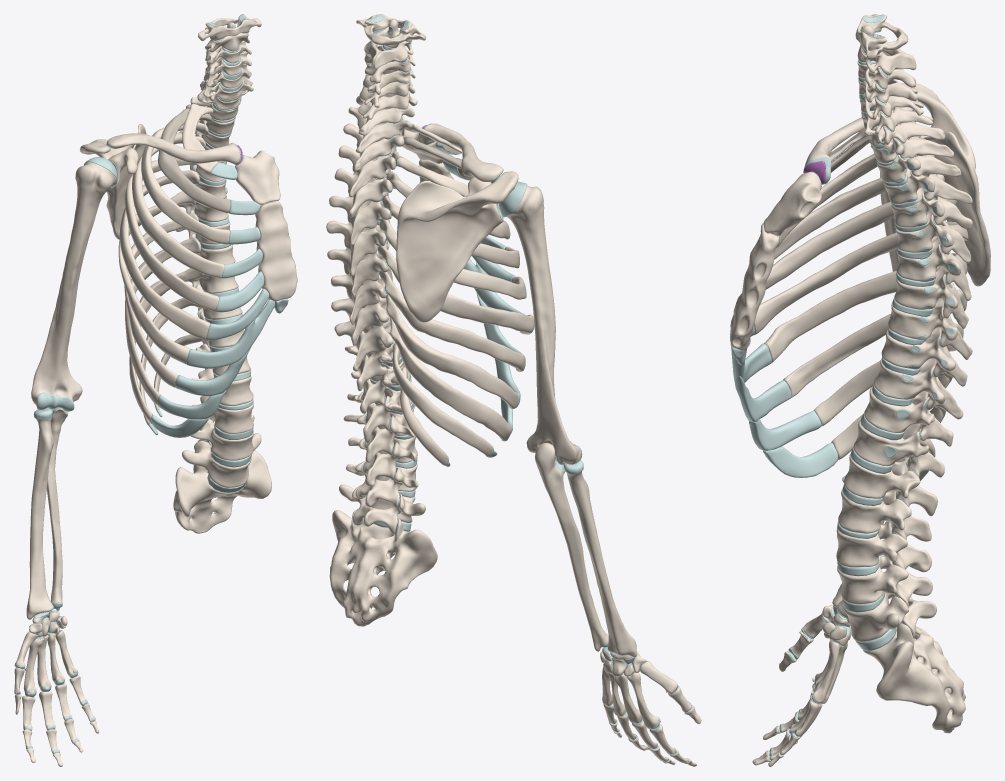
File: upper-limb-bones-and-cartilages.glb
3 views of the same model, side by side, from view 1: azimuth 30°, elevation 25°; view 2: azimuth 150°, elevation 25°; view 3: azimuth 270°, elevation 25° (orthographic). The views are drawn at different scales.
Parts seen in each view (by area): view 1: Humerus.r, Sacrum, Radius.r, Body of sternum, Rib (6th).r, Rib (4th).r, Rib (5th).r, Scapula.r, Rib (3rd).r, Ulna.r, Rib (7th).r, Rib (2nd).r (+28 smaller); view 2: Scapula.r, Sacrum, Humerus.r, Ulna.r, Radius.r, Rib (9th).r, Rib (10th).r, Rib (8th).r, Rib (7th).r, Rib (11th).r, Lumbar vertebra (L5), Lumbar vertebra (L4) (+25 smaller); view 3: Sacrum, Scapula.r, Rib (7th).r, Rib (6th).r, Body of sternum, Lumbar vertebra (L3), Lumbar vertebra (L2), Lumbar vertebra (L1), Rib (5th).r, Lumbar vertebra (L4), Thoracic vertebra (T12), Lumbar vertebra (L5) (+30 smaller).
Part boxes in pixels (left/top/right/bottom): Humerus.r: left=31, top=162, right=115, bottom=406; Sacrum: left=173, top=450, right=271, bottom=533; Radius.r: left=26, top=419, right=53, bottom=619; Body of sternum: left=255, top=201, right=297, bottom=301; Rib (6th).r: left=119, top=170, right=210, bottom=339; Rib (4th).r: left=132, top=132, right=224, bottom=278; Rib (5th).r: left=124, top=158, right=218, bottom=311; Scapula.r: left=80, top=124, right=146, bottom=239; Rib (3rd).r: left=141, top=122, right=229, bottom=244; Ulna.r: left=46, top=408, right=67, bottom=610; Rib (7th).r: left=118, top=191, right=196, bottom=364; Rib (2nd).r: left=158, top=108, right=230, bottom=212; Scapula.r: left=396, top=171, right=518, bottom=322; Sacrum: left=329, top=509, right=437, bottom=626; Humerus.r: left=506, top=185, right=581, bottom=464; Ulna.r: left=535, top=443, right=608, bottom=651; Radius.r: left=566, top=471, right=637, bottom=657; Rib (9th).r: left=386, top=294, right=518, bottom=408; Rib (10th).r: left=389, top=317, right=512, bottom=440; Rib (8th).r: left=379, top=271, right=525, bottom=372; Rib (7th).r: left=378, top=243, right=534, bottom=334; Rib (11th).r: left=392, top=343, right=493, bottom=456; Lumbar vertebra (L5): left=339, top=484, right=425, bottom=534; Lumbar vertebra (L4): left=346, top=460, right=418, bottom=507; Sacrum: left=863, top=597, right=965, bottom=733; Scapula.r: left=900, top=83, right=990, bottom=286; Rib (7th).r: left=764, top=253, right=967, bottom=362; Rib (6th).r: left=754, top=221, right=968, bottom=335; Body of sternum: left=730, top=223, right=779, bottom=350; Lumbar vertebra (L3): left=836, top=521, right=931, bottom=572; Lumbar vertebra (L2): left=838, top=490, right=931, bottom=541; Lumbar vertebra (L1): left=844, top=454, right=937, bottom=516; Rib (5th).r: left=765, top=198, right=956, bottom=289; Lumbar vertebra (L4): left=837, top=556, right=932, bottom=607; Thoracic vertebra (T12): left=854, top=420, right=944, bottom=477; Lumbar vertebra (L5): left=844, top=592, right=936, bottom=642.
Bounding box in the file's own units: 0.3973 × 0.853 × 0.2298.
